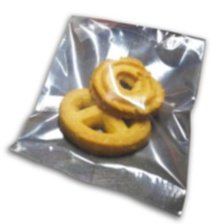snack: (0, 9, 213, 224)
